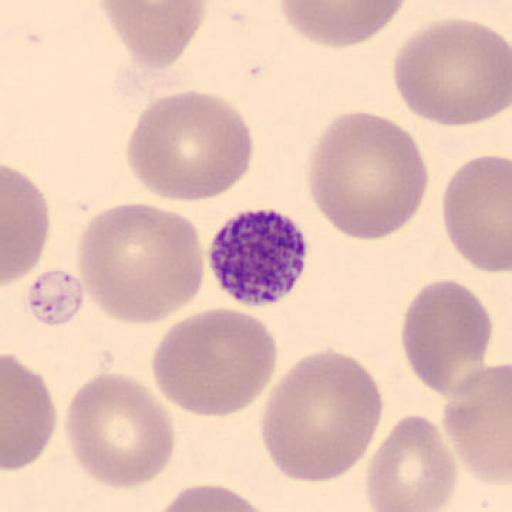Platelet: (206, 207, 312, 308), (25, 266, 87, 328)
RBC: (260, 348, 384, 484), (74, 201, 206, 327), (307, 109, 430, 242), (124, 89, 254, 204), (150, 307, 280, 418), (62, 371, 176, 489), (392, 16, 512, 127), (400, 277, 494, 397), (364, 413, 458, 512), (442, 360, 512, 483), (442, 153, 512, 274), (94, 1, 208, 70), (2, 352, 58, 472), (276, 0, 407, 49), (2, 163, 52, 288), (154, 482, 272, 512)
